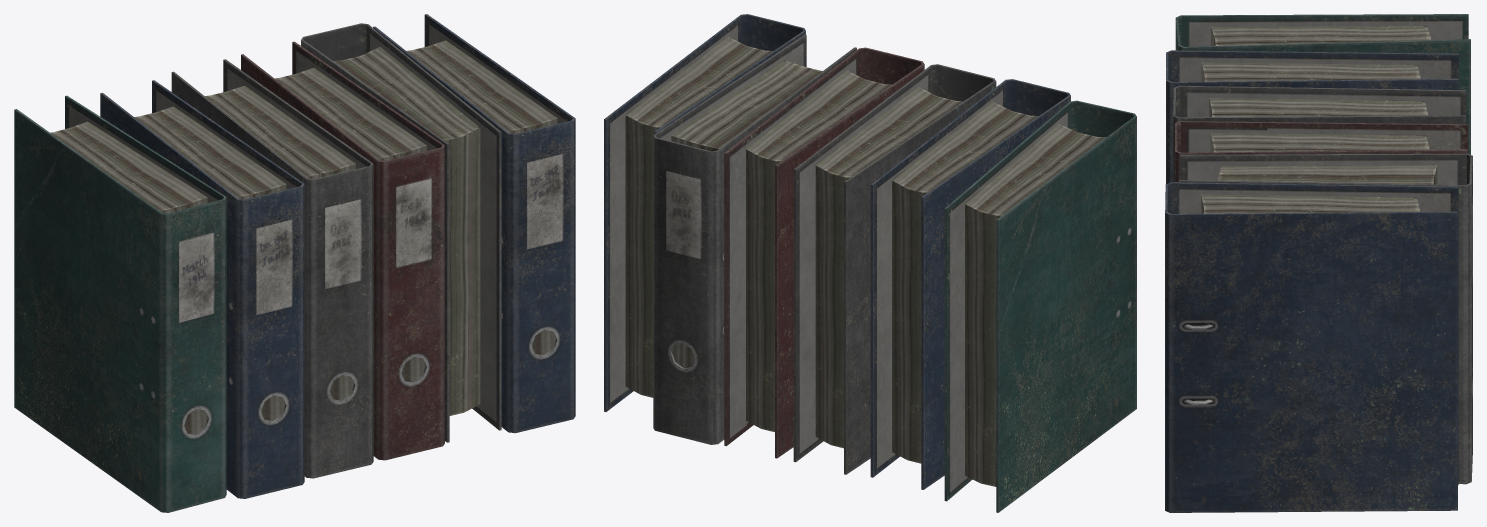
The model's file is FolderSet03.fbx.
3 views of the same model, side by side, from view 1: azimuth 30°, elevation 25°; view 2: azimuth 150°, elevation 25°; view 3: azimuth 270°, elevation 25° (orthographic).
Visible parts, largest first — view 1: FolderSet03; view 2: FolderSet03; view 3: FolderSet03.
Boxes of the visible parts, x1,y1,x2,y2 form: FolderSet03: (14, 14, 575, 512); FolderSet03: (604, 14, 1136, 512); FolderSet03: (1165, 14, 1472, 512).
Bounding box in the file's own units: 46.79 × 32 × 29.95.
